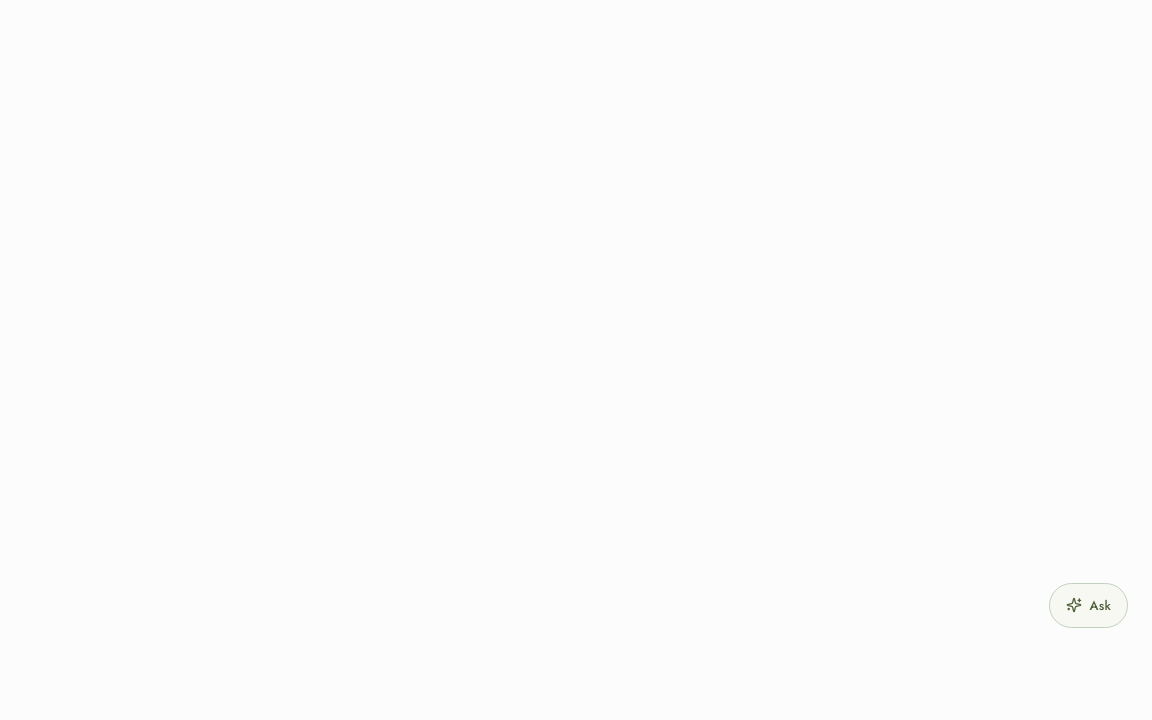
Test: WC-4 companion panel › opens the panel only from the launcher
Click the button with aria-label "companion".
click(1088, 605)  # box [1049,582,1128,628]
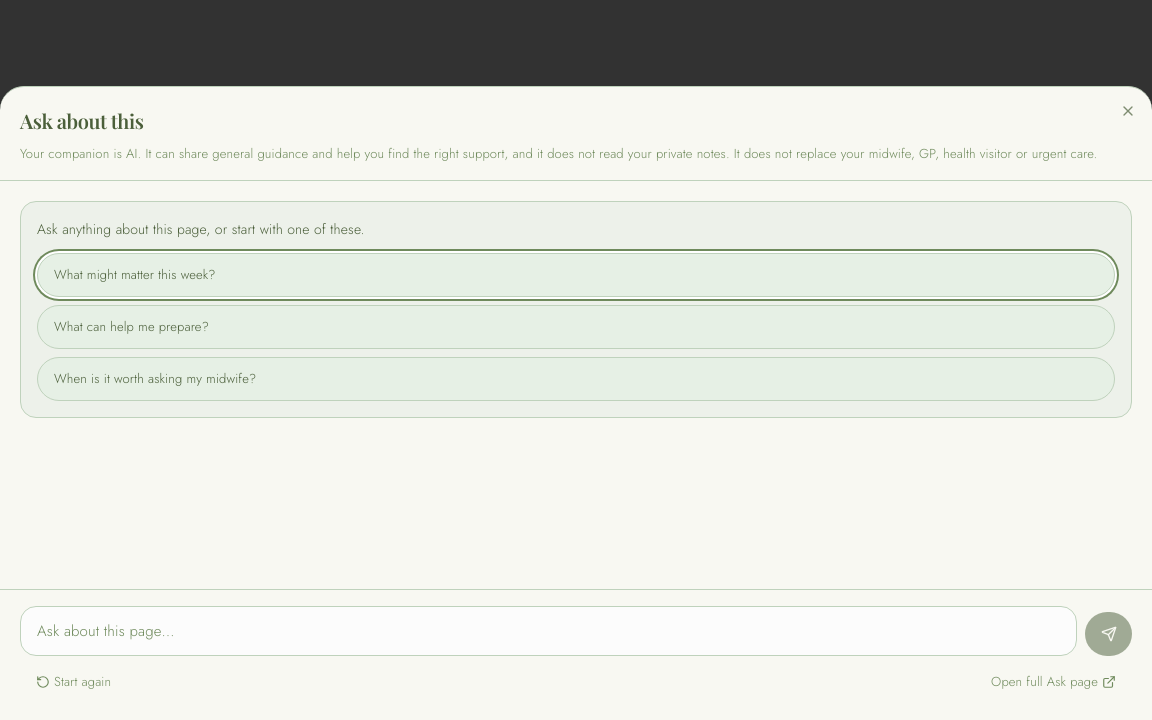
Result: the dialog is shown
